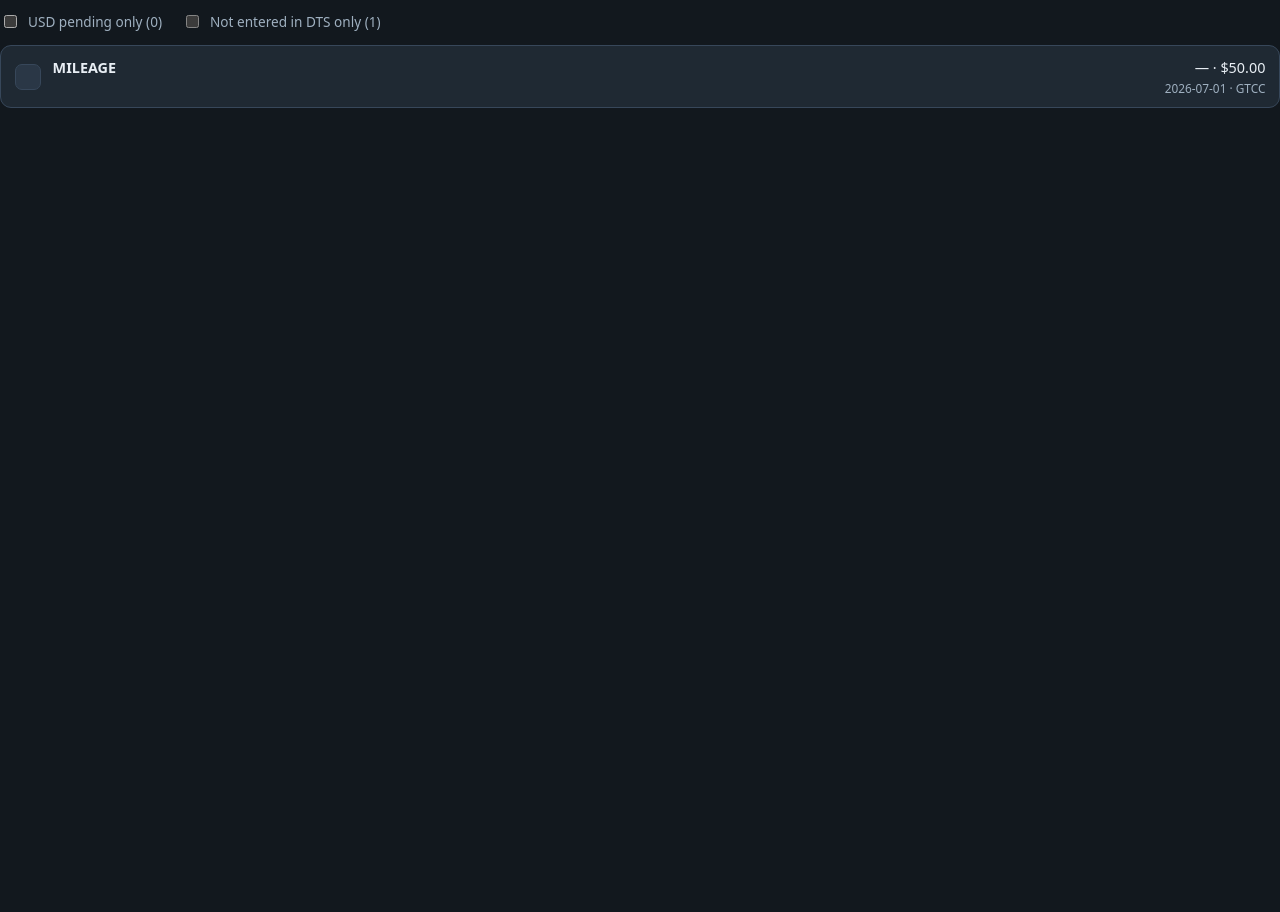
ExpenseList — MILEAGE calculator › defaults to manual mode for a MILEAGE row with no miles set (legacy/manual entry)
Step 1. Click the text "MILEAGE" → (84, 67), box [53,58,116,77]
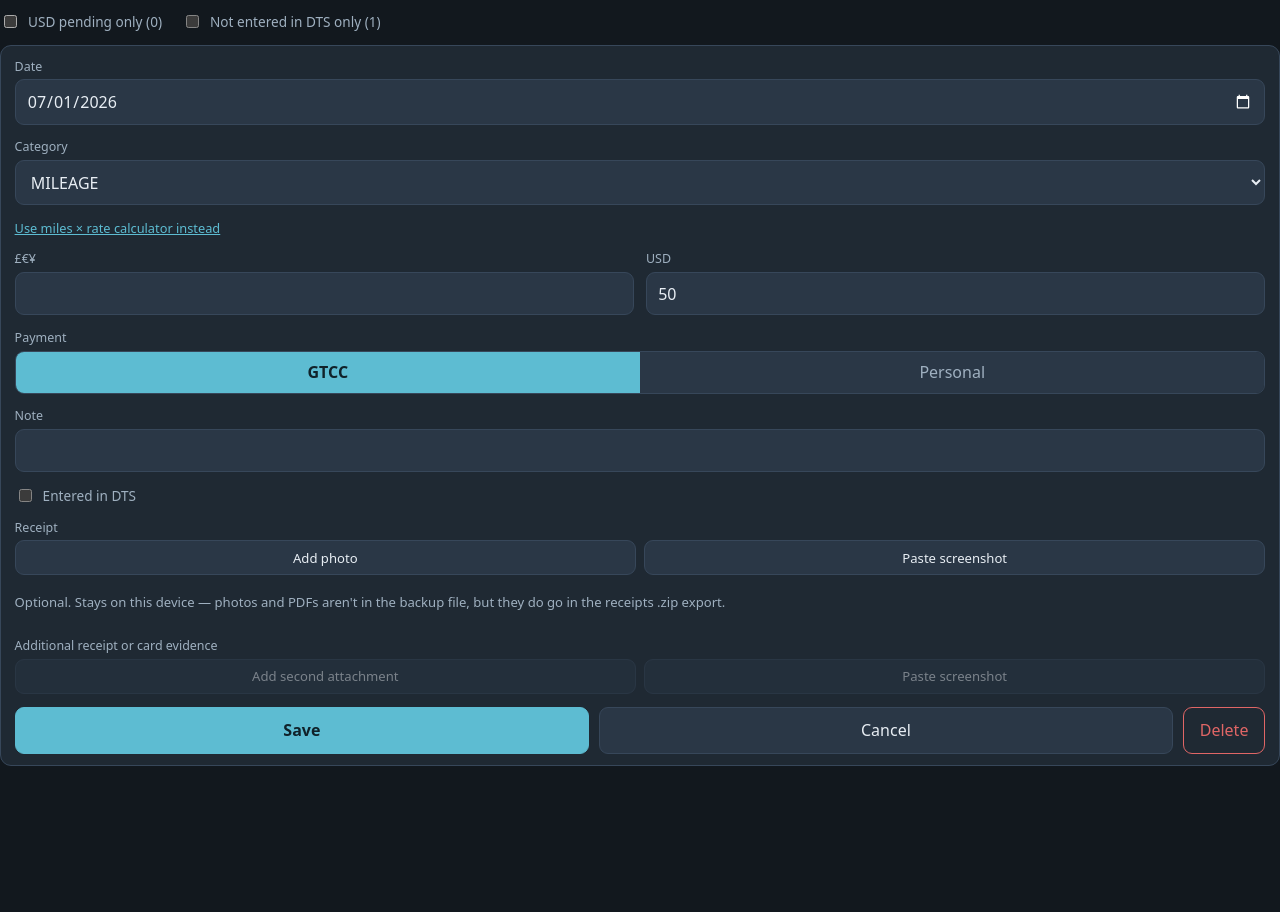
Expected: the button "Use miles × rate calculator instead" is shown, [15,219,220,237]
